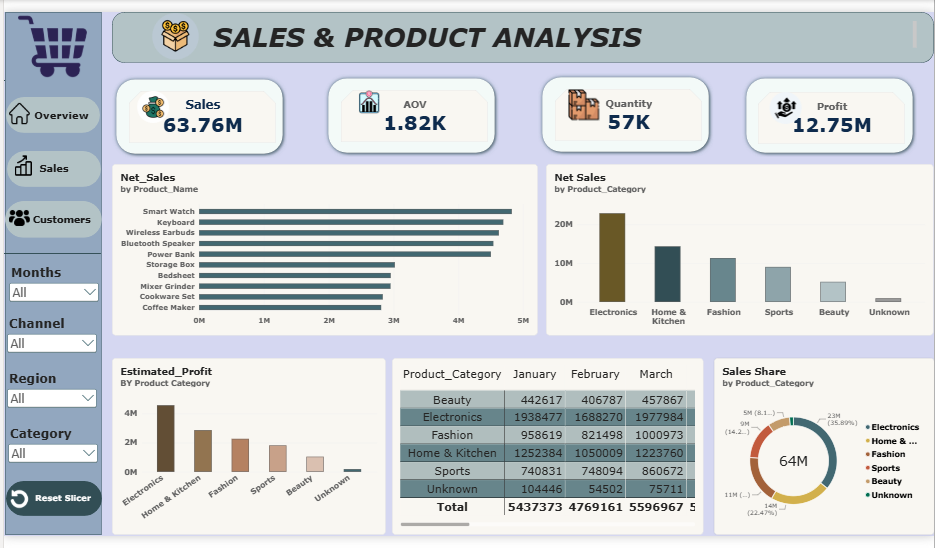

The dashboard page shown, as its layout file describes it:
{"tool":"powerbi","page":{"name":"sales","canvas":[1920,1080],"ordinal":1},"visuals":[{"type":"group","id":"g1","title":"Group 12","box":[0,0,202.3,1079.7],"z":0,"group":"g17"},{"type":"group","id":"g2","title":"Group 10","box":[0,0,202.3,1079.7],"z":0,"group":"g1"},{"type":"group","id":"g3","title":"Group 9","box":[1.9,0,200.4,1079.7],"z":0,"group":"g19"},{"type":"shape","box":[1.9,0,200.4,1079.7],"z":0,"group":"g3"},{"type":"shape","box":[223.2,0,1696.8,105],"z":0,"group":"g16"},{"type":"group","id":"g4","title":"Group 1","box":[0,128,198.2,26.8],"z":0},{"type":"cardVisual","fields":{"Data":["Sum(Sheet1.Quantity)"]},"box":[1137.6,158.1,303.8,107.5],"z":0,"group":"g11"},{"type":"cardVisual","fields":{"Data":["Sheet1.AOV"]},"box":[695.1,160.5,303.5,107.4],"z":0,"group":"g12"},{"type":"cardVisual","fields":{"Data":["Sum(Sheet1.Net_Sales)"]},"box":[257.6,163,303.5,107.4],"z":0,"group":"g13"},{"type":"cardVisual","fields":{"Data":["Sum(Sheet1.Estimated_Profit)"]},"box":[1556.8,164.2,303.5,107.4],"z":0,"group":"g14"},{"type":"group","id":"g5","title":"Group 16","box":[4.1,175.5,194.1,74.3],"z":0,"group":"g22"},{"type":"actionButton","box":[4.1,175.5,194.1,74.3],"z":0,"group":"g23"},{"type":"actionButton","box":[6.2,287,194.1,74.3],"z":0,"group":"g24"},{"type":"actionButton","box":[2.1,964.1,194.1,72.3],"z":0,"group":"g6"},{"type":"actionButton","box":[4.1,968.3,198.2,72.3],"z":0,"group":"g7"},{"type":"textbox","box":[360.4,19.3,1524.8,60.1],"z":1000,"group":"g16"},{"type":"shape","box":[0,128,198.2,26.8],"z":1000,"group":"g4"},{"type":"image","box":[1133.1,157.9,127.5,65],"z":1000,"group":"g11"},{"type":"image","box":[687.6,160.5,134.2,49.5],"z":1000,"group":"g12"},{"type":"image","box":[255.6,162.9,103.2,66.1],"z":1000,"group":"g13"},{"type":"image","box":[1554.8,164.1,117.8,66.1],"z":1000,"group":"g14"},{"type":"image","box":[10.3,181.7,43.4,55.7],"z":1000,"group":"g22"},{"type":"image","box":[16.5,287,47.5,59.9],"z":1000,"group":"g24"},{"type":"shape","box":[0,491.4,200.4,14.5],"z":1000,"group":"g19"},{"type":"group","id":"g6","title":"Group 14","box":[2.1,964.1,194.1,72.3],"z":1000},{"type":"image","box":[12.4,964.1,39.2,72.3],"z":1000,"group":"g6"},{"type":"group","id":"g7","title":"Group 14","box":[4.1,968.3,198.2,72.3],"z":1000,"group":"g17"},{"type":"image","box":[10.3,974.7,43.4,61.9],"z":1000,"group":"g7"},{"type":"image","box":[195,1.6,320.2,96.3],"z":2000,"group":"g16"},{"type":"shape","box":[1102.5,125,361.7,171.5],"z":2000,"group":"g10"},{"type":"shape","box":[1523.4,127.3,361.3,171.4],"z":2000,"group":"g15"},{"type":"shape","box":[660,127.5,361.3,171.4],"z":2000,"group":"g9"},{"type":"group","id":"g8","title":"Group 3","box":[222.5,130,362.5,172.5],"z":2000},{"type":"shape","box":[222.5,130,361.3,171.4],"z":2000,"group":"g8"},{"type":"group","id":"g9","title":"Group 3","box":[660,127.5,360,170],"z":3000},{"type":"group","id":"g10","title":"Group 3","box":[1102.5,125,361.7,171.5],"z":4000},{"type":"group","id":"g11","title":"Group 2","box":[1133.1,157.9,308.3,107.6],"z":4000,"group":"g10"},{"type":"group","id":"g12","title":"Group 2","box":[687.6,160.5,311,107.4],"z":4000,"group":"g9"},{"type":"group","id":"g13","title":"Group 2","box":[255.6,162.9,305.5,107.5],"z":4000,"group":"g8"},{"type":"group","id":"g14","title":"Group 2","box":[1554.8,164.1,305,107.5],"z":4000,"group":"g15"},{"type":"group","id":"g15","title":"Group 3","box":[1523.4,127.3,361.3,171.4],"z":5000},{"type":"clusteredBarChart","title":" Net_Sales","fields":{"Category":["Sheet1.Product_Name"],"Y":["Sum(Sheet1.Net_Sales)"]},"box":[223,313.8,878.8,353.8],"z":6000},{"type":"columnChart","title":" Net Sales","fields":{"Category":["Sheet1.Product_Category"],"Y":["Sum(Sheet1.Net_Sales)"]},"box":[1119,313.8,800,353.8],"z":7000},{"type":"image","box":[1.9,0,196.2,142.5],"z":8000,"group":"g3"},{"type":"columnChart","title":" Estimated_Profit","fields":{"Category":["Sheet1.Product_Category"],"Y":["Sum(Sheet1.Estimated_Profit)"]},"box":[222.5,715,565,365],"z":8000},{"type":"group","id":"g16","title":"Group 4","box":[195,0,1725,105],"z":9000},{"type":"pivotTable","fields":{"Columns":["Sheet1.Order_Date.Variation.Date Hierarchy.Month"],"Rows":["Sheet1.Product_Category"],"Values":["Sheet1.Total Sales"]},"box":[800,715,642.5,365],"z":10000},{"type":"group","id":"g17","title":"Group 13","box":[0,0,202.3,1079.7],"z":11000,"group":"g18"},{"type":"donutChart","title":" Sales Share","fields":{"Category":["Sheet1.Product_Category"],"Y":["Sheet1.Total Sales"]},"box":[1465.8,714.3,455,365],"z":11000},{"type":"group","id":"g18","title":"Group 19","box":[0,0,202.3,1079.7],"z":12000},{"type":"group","id":"g19","title":"Group 11","box":[0,0,202.3,1079.7],"z":14001,"group":"g2"},{"type":"group","id":"g20","title":"Group 16","box":[6.2,287,194.1,74.3],"z":15000,"group":"g18"},{"type":"group","id":"g21","title":"Group 18","box":[2.1,390.2,200,76],"z":16000,"group":"g18"},{"type":"actionButton","box":[2.1,390.2,200,76],"z":16000,"group":"g21"},{"type":"group","id":"g22","title":"Group 8","box":[4.1,175.5,194.1,74.3],"z":17000,"group":"g18"},{"type":"image","box":[10.4,390.2,43.4,70.2],"z":17000,"group":"g21"},{"type":"slicer","fields":{"Values":["Sheet1.Marketing_Channel"]},"box":[1.9,627.6,194.1,86.7],"z":17000,"group":"g3"},{"type":"group","id":"g23","title":"Group 17","box":[4.1,175.5,194.1,74.3],"z":17001,"group":"g5"},{"type":"group","id":"g24","title":"Group 17","box":[6.2,287,194.1,74.3],"z":17001,"group":"g20"},{"type":"slicer","fields":{"Values":["Sheet1.Region"]},"box":[1.9,741.2,194.1,86.7],"z":18000,"group":"g3"},{"type":"slicer","fields":{"Values":["Sheet1.Product_Category"]},"box":[4,854.7,194.1,86.7],"z":19000,"group":"g3"},{"type":"slicer","fields":{"Values":["Sheet1.Order_Date.Variation.Date Hierarchy.Month"]},"box":[6.1,522.3,194.1,86.7],"z":20000,"group":"g3"}]}

Visuals, with their boxes on the page's 1920x1080 design canvas (x1, y1, x2, y2). These are canvas units, not pixel positions in the 935x548 screenshot, which may show the page scaled, cropped or inside an application window:
"Group 12" group: 0:0:202:1080
"Group 10" group: 0:0:202:1080
"Group 9" group: 2:0:202:1080
shape: 2:0:202:1080
shape: 223:0:1920:105
"Group 1" group: 0:128:198:155
cardVisual - Sum(Sheet1.Quantity): 1138:158:1441:266
cardVisual - Sheet1.AOV: 695:160:999:268
cardVisual - Sum(Sheet1.Net_Sales): 258:163:561:270
cardVisual - Sum(Sheet1.Estimated_Profit): 1557:164:1860:272
"Group 16" group: 4:176:198:250
actionButton: 4:176:198:250
actionButton: 6:287:200:361
actionButton: 2:964:196:1036
actionButton: 4:968:202:1041
textbox: 360:19:1885:79
shape: 0:128:198:155
image: 1133:158:1261:223
image: 688:160:822:210
image: 256:163:359:229
image: 1555:164:1673:230
image: 10:182:54:237
image: 16:287:64:347
shape: 0:491:200:506
"Group 14" group: 2:964:196:1036
image: 12:964:52:1036
"Group 14" group: 4:968:202:1041
image: 10:975:54:1037
image: 195:2:515:98
shape: 1102:125:1464:296
shape: 1523:127:1885:299
shape: 660:128:1021:299
"Group 3" group: 222:130:585:302
shape: 222:130:584:301
"Group 3" group: 660:128:1020:298
"Group 3" group: 1102:125:1464:296
"Group 2" group: 1133:158:1441:266
"Group 2" group: 688:160:999:268
"Group 2" group: 256:163:561:270
"Group 2" group: 1555:164:1860:272
"Group 3" group: 1523:127:1885:299
" Net_Sales" clusteredBarChart: 223:314:1102:668
" Net Sales" columnChart: 1119:314:1919:668
image: 2:0:198:142
" Estimated_Profit" columnChart: 222:715:788:1080
"Group 4" group: 195:0:1920:105
pivotTable - Sheet1.Order_Date.Variation.Date Hierarchy.Month x Sheet1.Product_Category: 800:715:1442:1080
"Group 13" group: 0:0:202:1080
" Sales Share" donutChart: 1466:714:1921:1079
"Group 19" group: 0:0:202:1080
"Group 11" group: 0:0:202:1080
"Group 16" group: 6:287:200:361
"Group 18" group: 2:390:202:466
actionButton: 2:390:202:466
"Group 8" group: 4:176:198:250
image: 10:390:54:460
slicer - Sheet1.Marketing_Channel: 2:628:196:714
"Group 17" group: 4:176:198:250
"Group 17" group: 6:287:200:361
slicer - Sheet1.Region: 2:741:196:828
slicer - Sheet1.Product_Category: 4:855:198:941
slicer - Sheet1.Order_Date.Variation.Date Hierarchy.Month: 6:522:200:609
